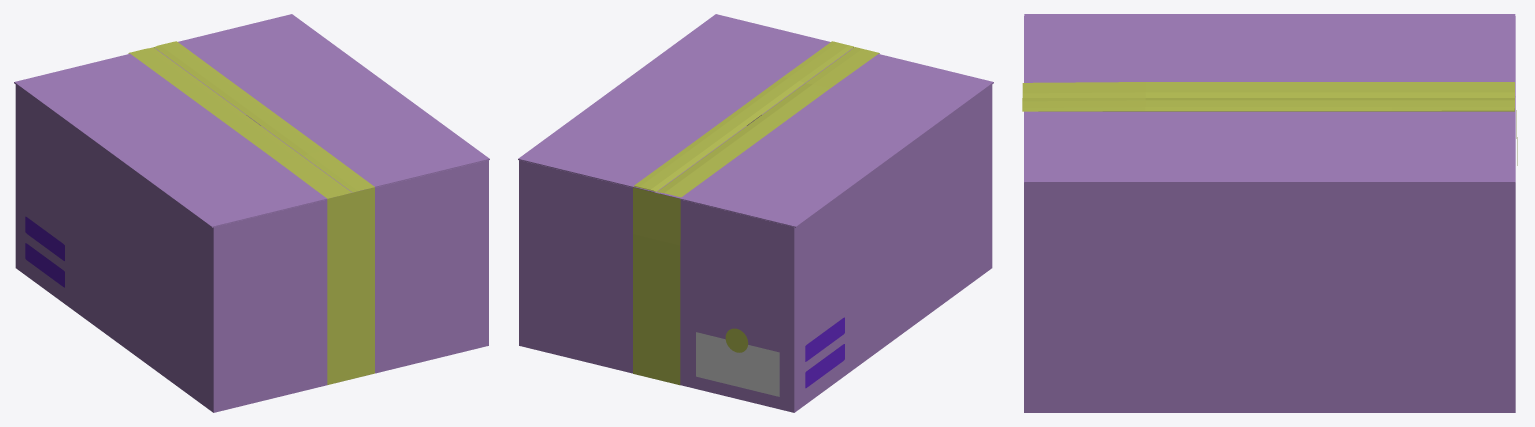
File: BoxColor.glb
3 views of the same model, side by side, from view 1: azimuth 30°, elevation 25°; view 2: azimuth 150°, elevation 25°; view 3: azimuth 270°, elevation 25° (orthographic). The views are drawn at different scales.
Visible parts, largest first — view 1: Box_Body, Box_Flap_RL, Box_Flap_LL, Plane.003, Plane.002; view 2: Box_Body, Box_Flap_RL, Box_Flap_LL, Plane.001, Plane.003, Plane.002, Circle; view 3: Box_Body, Box_Flap_LL, Box_Flap_RL.
Boxes of the visible parts, bbox=[...] form: Box_Body: bbox=[15, 47, 488, 412]; Box_Flap_RL: bbox=[14, 47, 351, 227]; Box_Flap_LL: bbox=[154, 14, 489, 192]; Plane.003: bbox=[25, 216, 64, 260]; Plane.002: bbox=[25, 243, 64, 287]; Box_Body: bbox=[519, 47, 992, 412]; Box_Flap_RL: bbox=[657, 47, 993, 227]; Box_Flap_LL: bbox=[518, 14, 853, 192]; Plane.001: bbox=[696, 332, 779, 396]; Plane.003: bbox=[805, 317, 844, 361]; Plane.002: bbox=[805, 344, 844, 388]; Circle: bbox=[725, 328, 748, 352]; Box_Body: bbox=[1024, 16, 1517, 412]; Box_Flap_LL: bbox=[1022, 98, 1515, 183]; Box_Flap_RL: bbox=[1022, 14, 1515, 97].
Bounding box in the file's own units: 2.33 × 1.51 × 2.92.
Materials: 4 (1 with a texture image).
